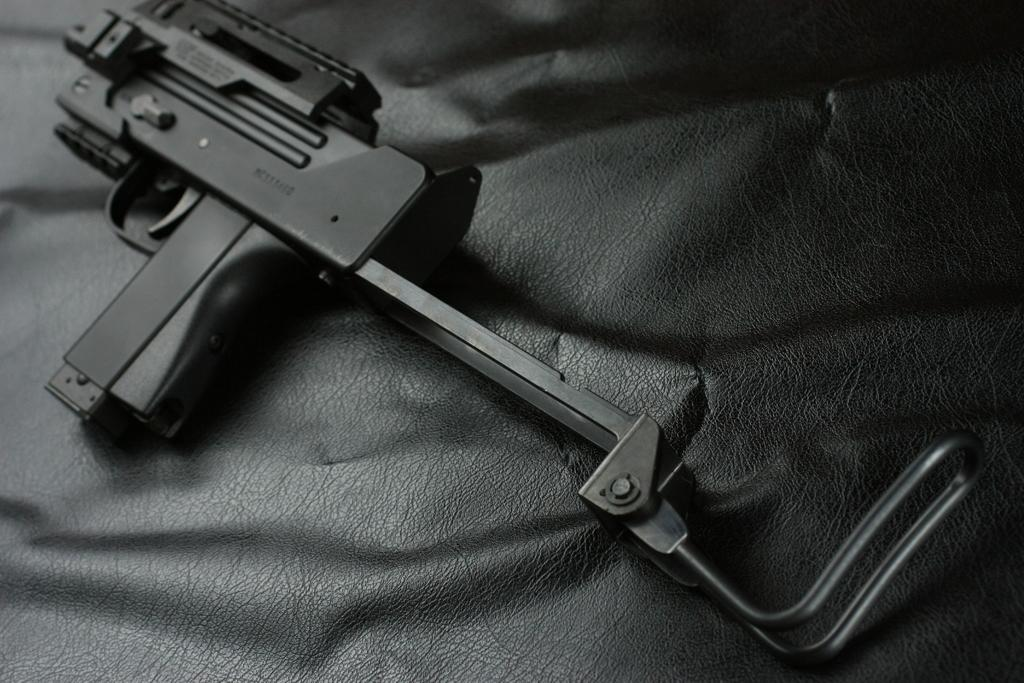Handgun: (45, 0, 991, 671)
